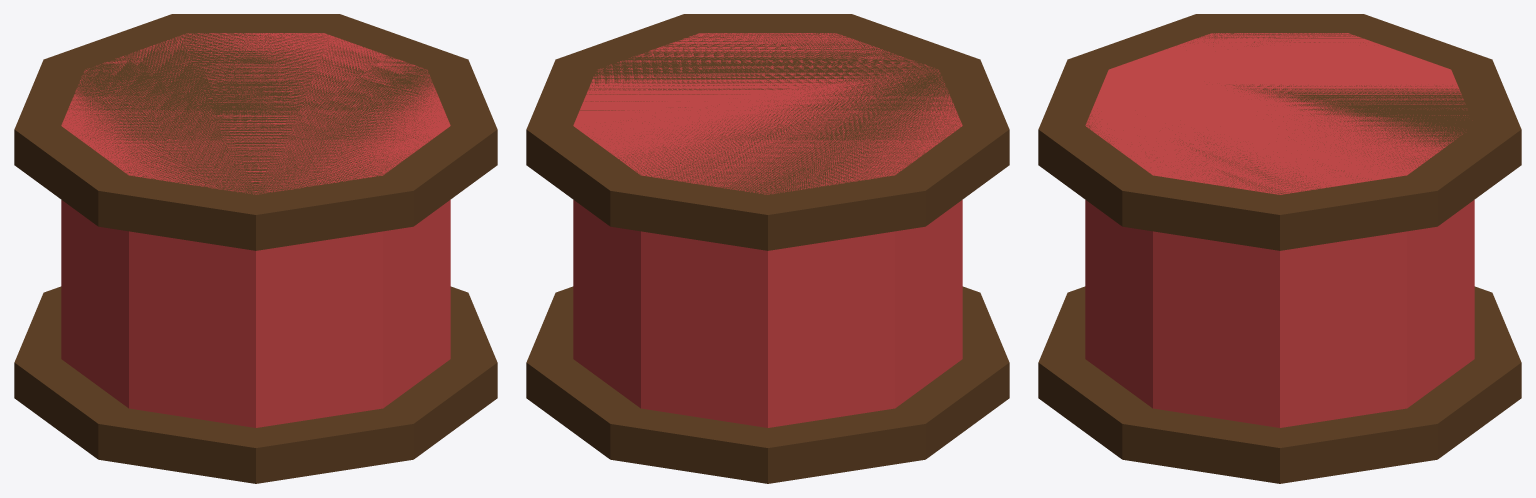
The model's file is drop_thread.glb.
3 views of the same model, side by side, from view 1: azimuth 30°, elevation 25°; view 2: azimuth 150°, elevation 25°; view 3: azimuth 270°, elevation 25° (orthographic).
Visible parts, largest first — view 1: drop_thread; view 2: drop_thread; view 3: drop_thread.
Part boxes in pixels (box(x1,y1,x2,y2)): drop_thread: box(14, 14, 497, 483); drop_thread: box(526, 14, 1009, 483); drop_thread: box(1038, 14, 1521, 483).
Bounding box in the file's own units: 0.1203 × 0.075 × 0.1221.
